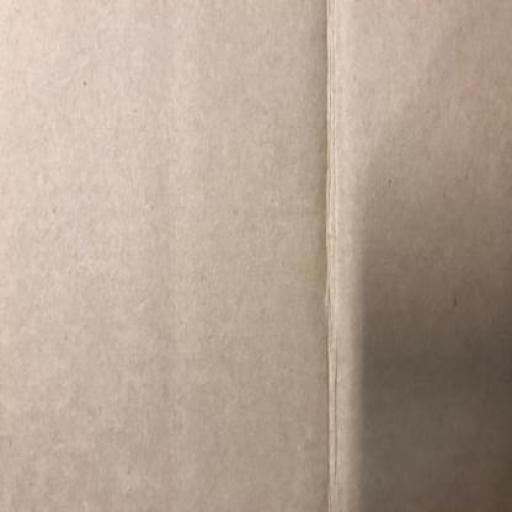cardboard: (0, 0, 511, 511), (0, 0, 324, 511), (324, 0, 510, 511)
